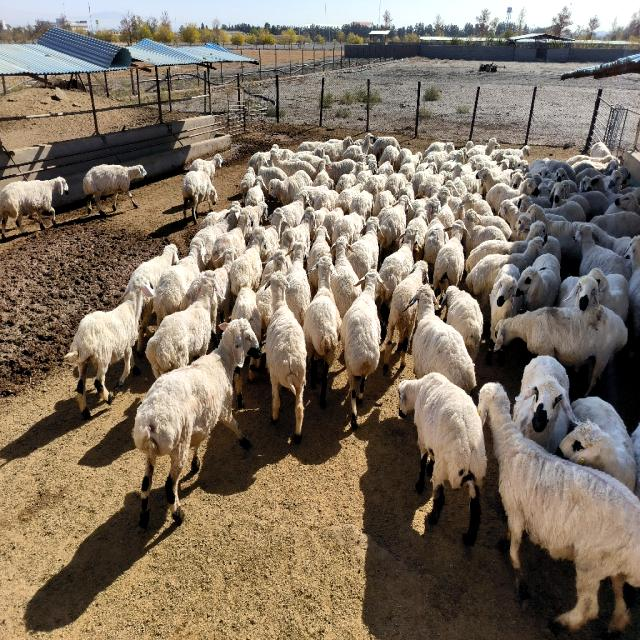sheep: (479, 383, 640, 630), (132, 318, 260, 527), (398, 372, 486, 544), (65, 280, 154, 418), (496, 305, 628, 396), (406, 285, 476, 393), (146, 277, 220, 378), (560, 397, 636, 490), (265, 272, 306, 442), (512, 355, 579, 453), (341, 270, 382, 428), (466, 235, 544, 309), (304, 255, 341, 407), (384, 260, 429, 372), (154, 238, 206, 326), (0, 177, 69, 238), (465, 222, 545, 273), (84, 165, 146, 217), (122, 243, 179, 299), (575, 223, 631, 279), (192, 205, 241, 269), (441, 287, 482, 361), (379, 228, 416, 304), (529, 205, 581, 258), (516, 253, 561, 312), (432, 220, 466, 296), (490, 265, 522, 342), (331, 237, 361, 318), (211, 208, 251, 268), (231, 227, 265, 296), (285, 242, 311, 326), (590, 268, 629, 322), (378, 195, 410, 259), (464, 208, 505, 256), (181, 170, 218, 222), (348, 217, 379, 278), (486, 178, 539, 213), (280, 207, 315, 253), (308, 225, 330, 297), (268, 170, 312, 205), (556, 275, 600, 309), (260, 208, 285, 262), (424, 218, 448, 274), (258, 153, 288, 191), (331, 212, 365, 245), (280, 190, 309, 227), (408, 208, 429, 258), (476, 167, 514, 193), (138, 298, 154, 354), (190, 153, 222, 181), (336, 183, 364, 215), (342, 133, 374, 161), (350, 190, 374, 220), (322, 207, 344, 238), (244, 177, 265, 207), (240, 167, 256, 199)
